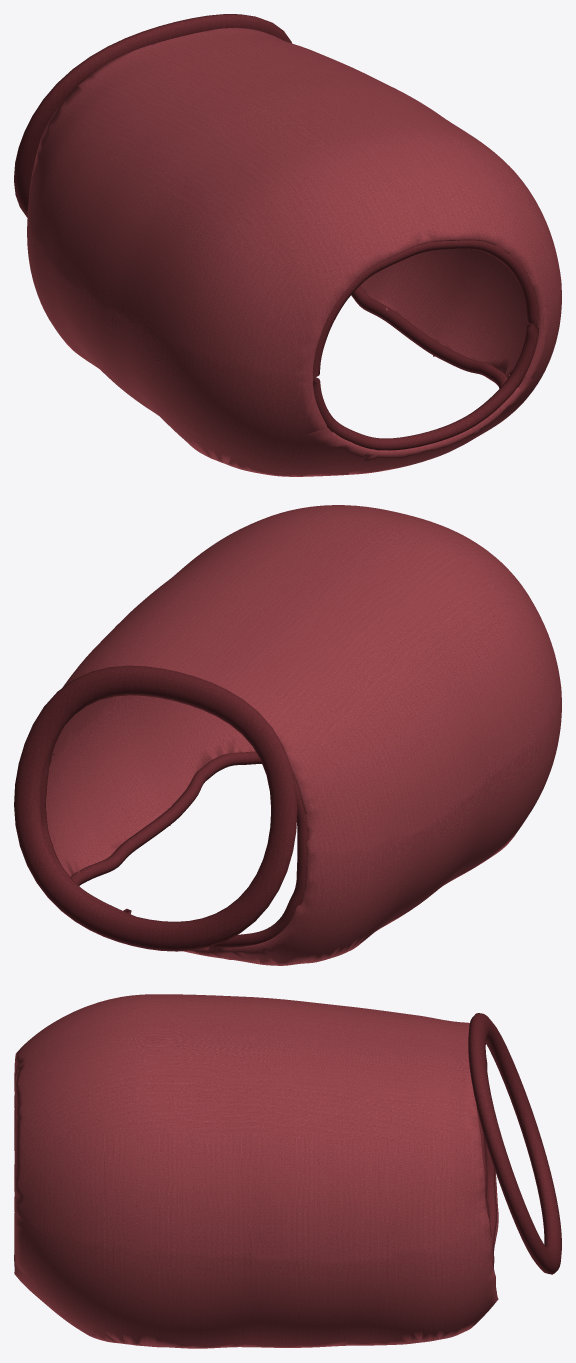
Rendered from sweater.glb.
3 renders of one model, top to bottom at view 1: azimuth 30°, elevation 25°; view 2: azimuth 150°, elevation 25°; view 3: azimuth 270°, elevation 25°, orthographic. The views are drawn at different scales.
Parts seen in each view (by area): view 1: Sweater; view 2: Sweater; view 3: Sweater.
Boxes of the visible parts, bbox=[...] form: Sweater: bbox=[14, 14, 561, 476]; Sweater: bbox=[14, 505, 561, 965]; Sweater: bbox=[14, 994, 561, 1348].
Bounding box in the file's own units: 0.6412 × 0.4777 × 0.8807.
Materials: 2 (2 with a texture image).
